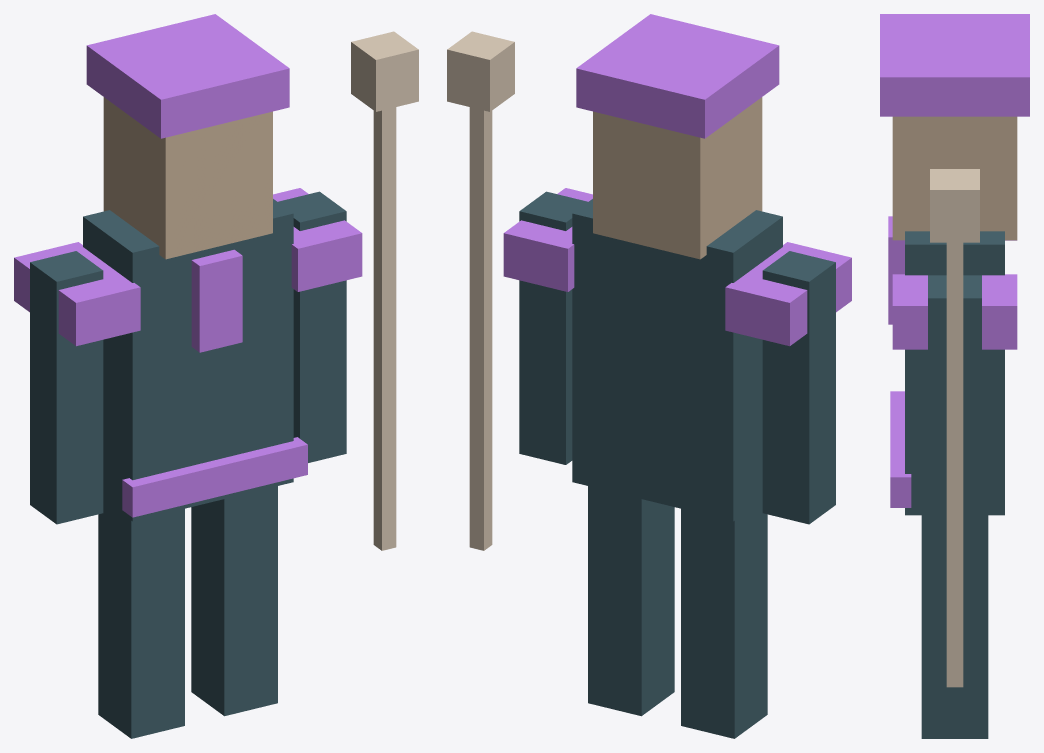
The model's file is 11_lyric_rootborne_responder_from_forgeward.glb.
3 renders of one model, left to right at view 1: azimuth 30°, elevation 25°; view 2: azimuth 150°, elevation 25°; view 3: azimuth 270°, elevation 25°, orthographic.
Visible parts, largest first — view 1: Lyric Rootborne, Responder from Forgeward; view 2: Lyric Rootborne, Responder from Forgeward; view 3: Lyric Rootborne, Responder from Forgeward.
Part boxes in pixels (x1,y1,x2,y2): Lyric Rootborne, Responder from Forgeward: [14, 14, 418, 738]; Lyric Rootborne, Responder from Forgeward: [447, 14, 851, 738]; Lyric Rootborne, Responder from Forgeward: [880, 14, 1029, 738].
Bounding box in the file's own units: 0.9463 × 1.62 × 0.3356.
